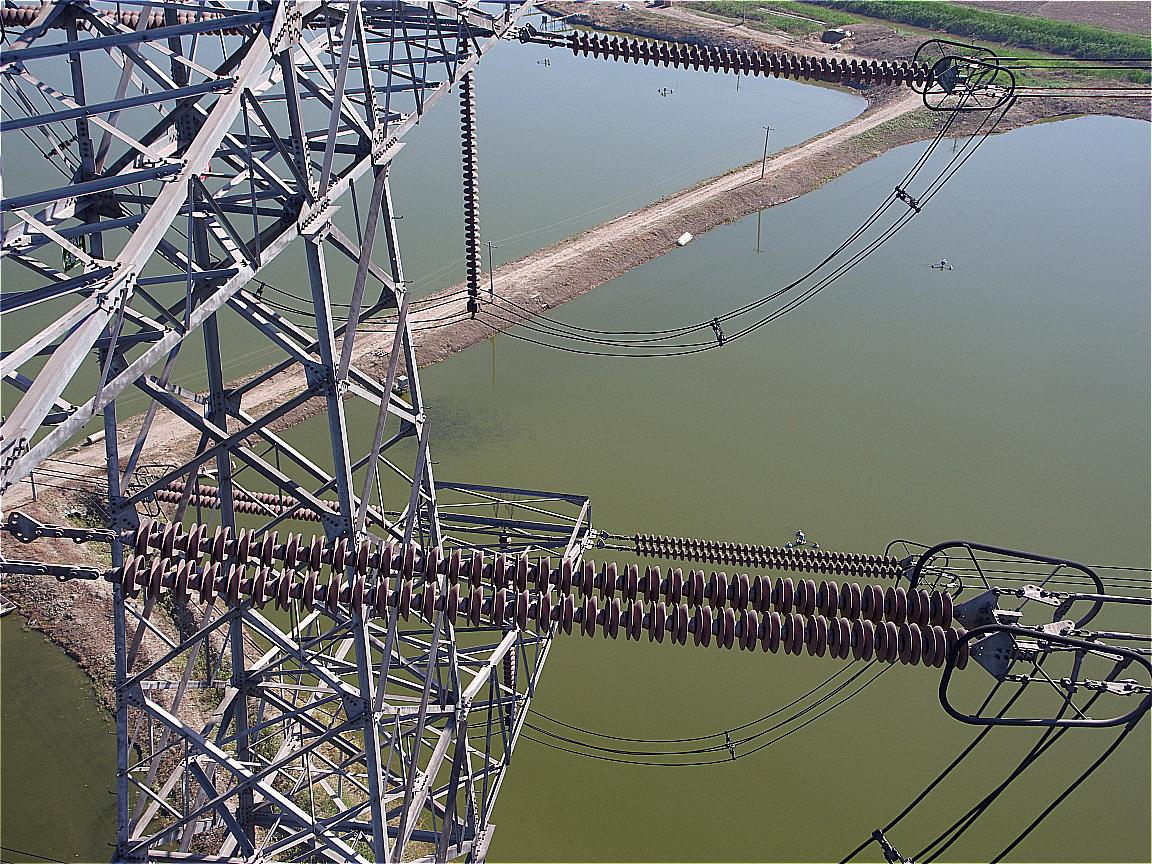insultor1: (572, 29, 937, 87), (634, 529, 905, 580), (155, 479, 342, 521)
insultor2: (122, 521, 970, 671)
